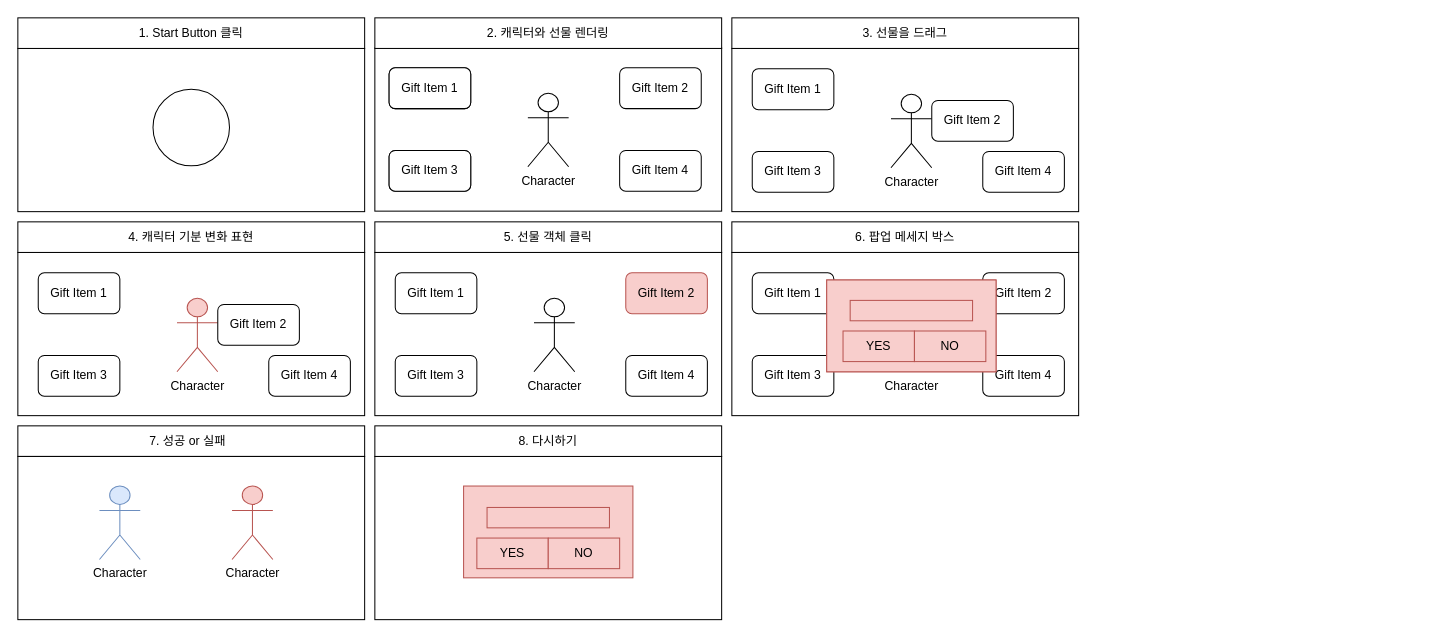
Image size: 1454x638. Some labels were removed from this diagram. Each missing label, with the centre of its shape:
start button: pixel 191 127
다시 하시겠습니까?: pixel 547 517
선물하시겠습니까?: pixel 911 310
